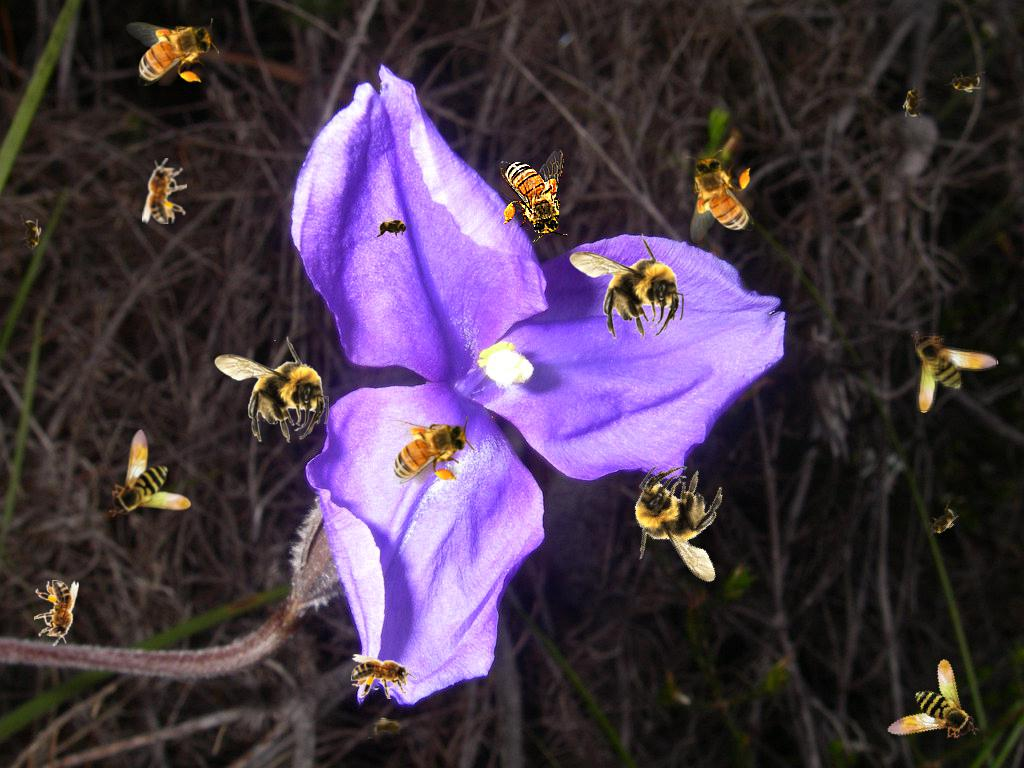Bee: (604, 447, 761, 602), (569, 233, 684, 340), (214, 336, 329, 443), (871, 655, 981, 761), (911, 331, 999, 413), (109, 429, 191, 517), (126, 18, 219, 86), (686, 150, 754, 243), (381, 416, 474, 484), (500, 149, 568, 242), (351, 654, 417, 699), (34, 580, 79, 646), (142, 158, 187, 224), (919, 500, 965, 544), (900, 80, 928, 124), (20, 215, 42, 255), (373, 217, 413, 239), (368, 717, 408, 739), (945, 71, 985, 93)
